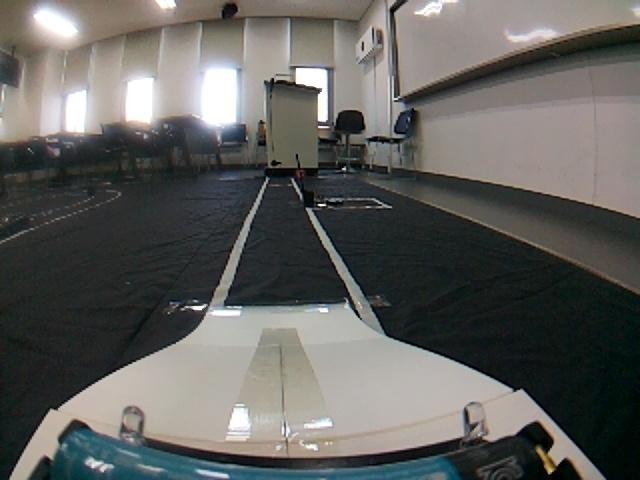hill_down: (0, 292, 614, 474)
